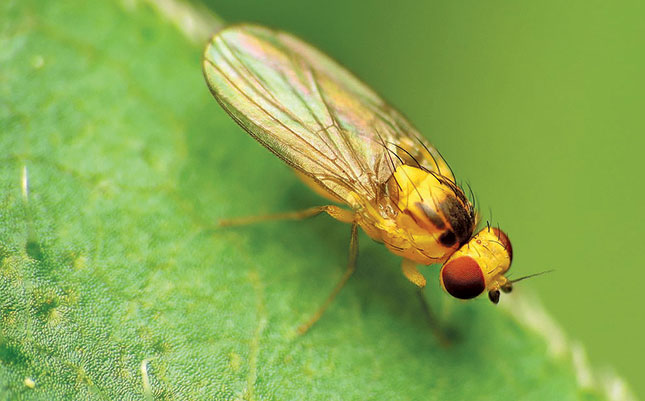Fruit fly: (202, 20, 532, 322)
